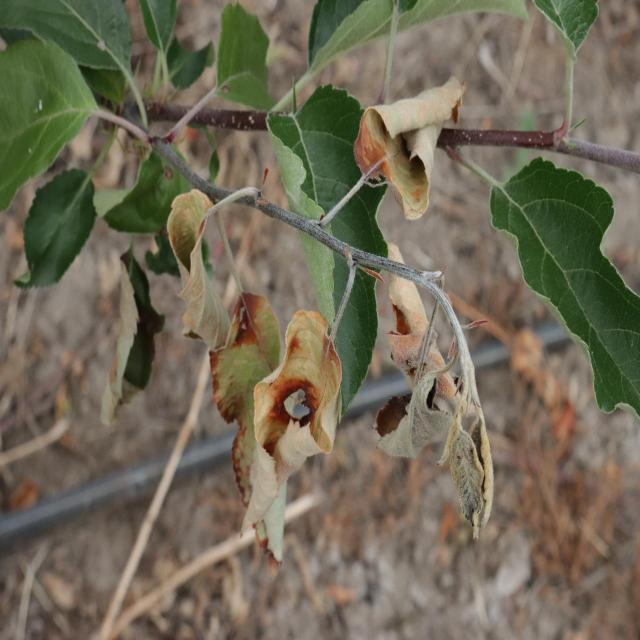-FireBlight-: (162, 189, 343, 567), (369, 256, 504, 539), (350, 80, 468, 225)
